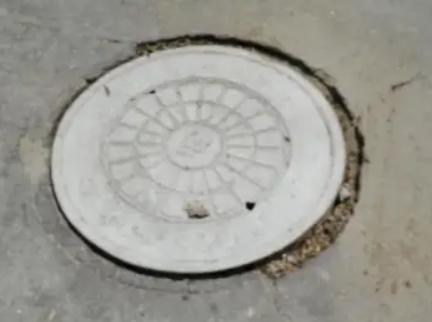wellcover: (53, 36, 356, 272)
